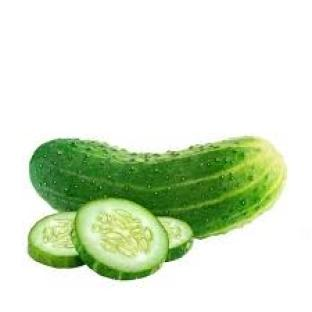Cucumber: (31, 138, 285, 237), (73, 199, 169, 280), (28, 213, 83, 267), (159, 217, 192, 260)
